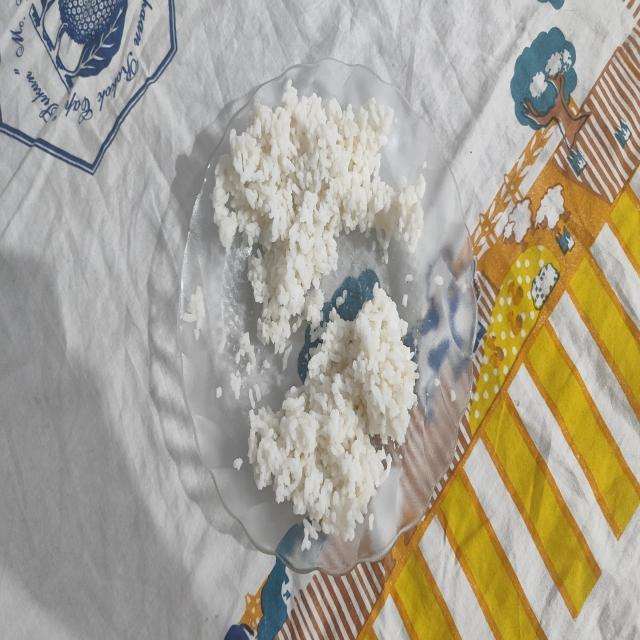nasi_putih: (212, 80, 425, 352), (248, 285, 418, 548)
